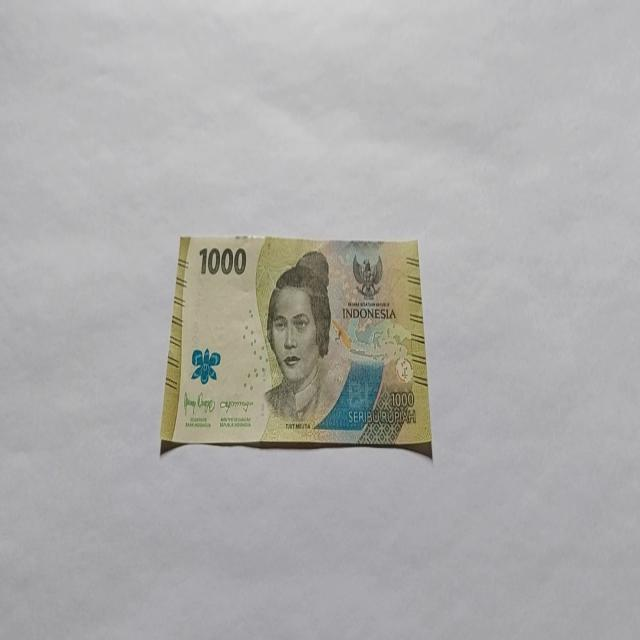seribu rupiah kertas: (159, 233, 433, 458)
